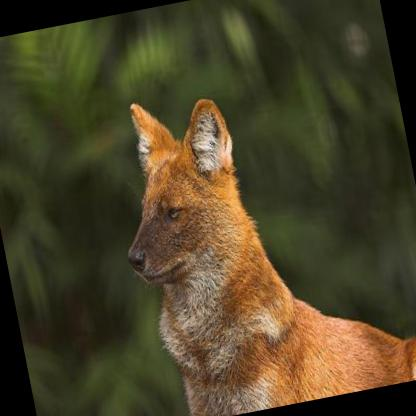dhole: (95, 48, 416, 416)
